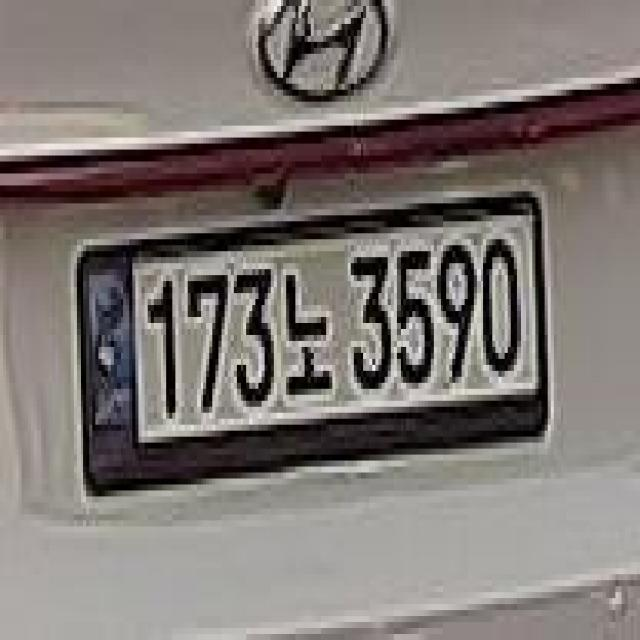illegal_plate: (71, 195, 552, 479)
